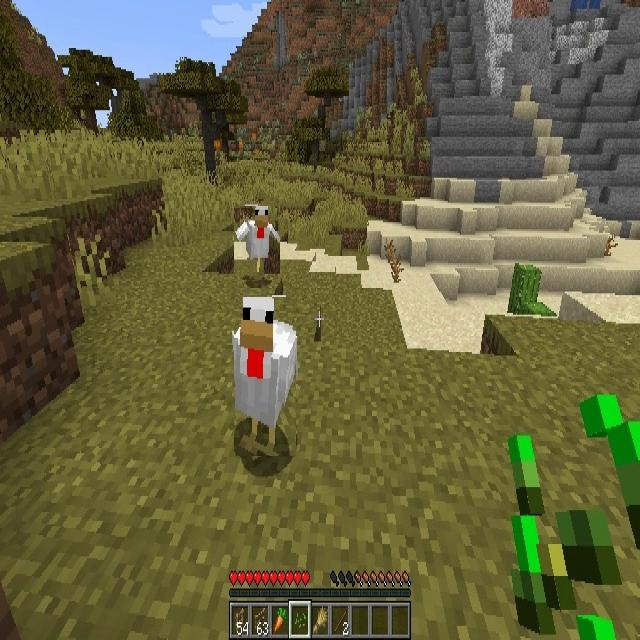duck: (234, 297, 296, 456), (234, 206, 280, 280)
